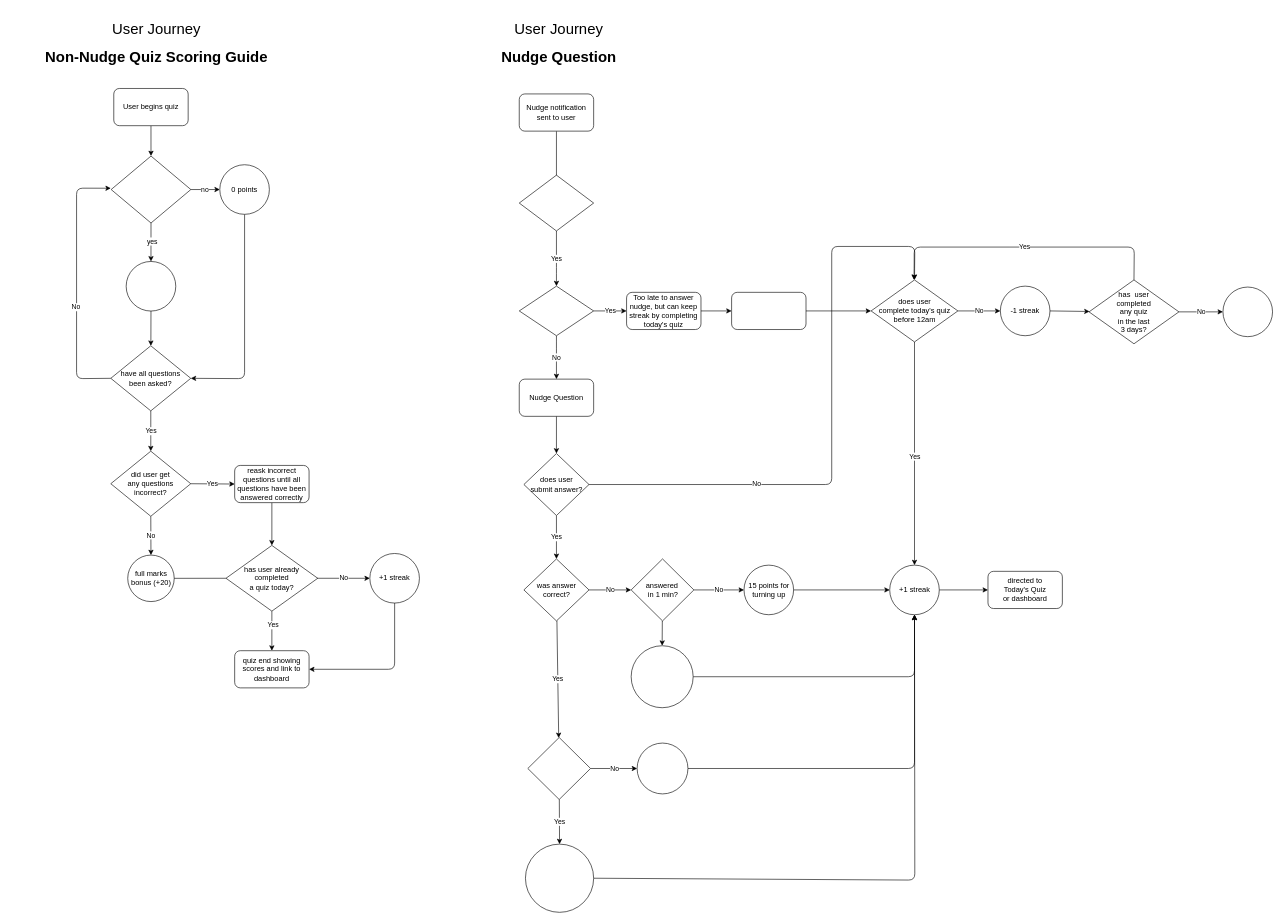
The diagram is 1283 pixels wide and 923 high, and some of its shapes have lost their labels. Here are the shapes that lost their labels. From the top down, the centre of each, then its label:
At pixel 151 189: "does user get question correct".
At pixel 556 203: "Does user click notification".
At pixel 151 286: "10 points".
At pixel 556 311: "has 3 minutes passed?".
At pixel 768 311: "directed to Today's Quiz".
At pixel 1247 311: "streak reset to 0 days".
At pixel 662 676: "15 points for turning up Time bonus x 2 (30 points total)".
At pixel 559 768: "was it answered in 1 min?".
At pixel 662 768: "Score 100 points No Time Bonus".
At pixel 559 878: "Score 100 points Time bonus x 2 (200 points total)".
